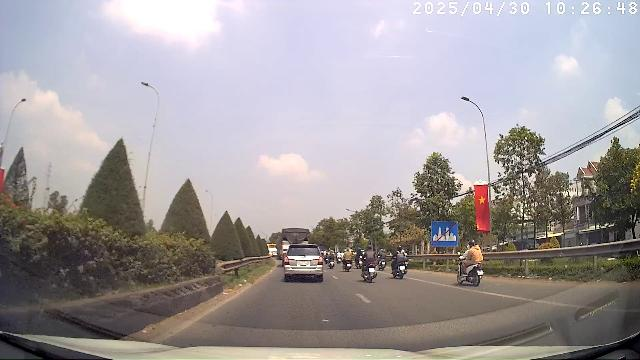421-ket-thuc-khu-dong-dan-cu: (432, 222, 458, 246)
